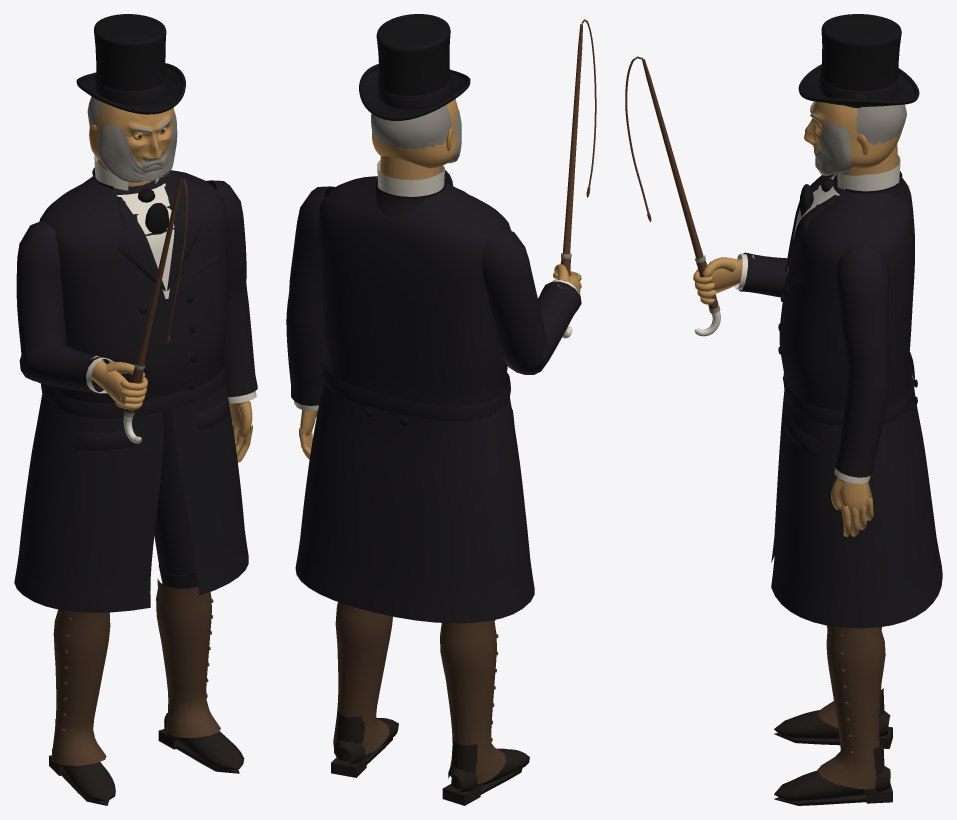
The model's file is grimesby.glb.
3 views of the same model, side by side, from view 1: azimuth 30°, elevation 25°; view 2: azimuth 150°, elevation 25°; view 3: azimuth 270°, elevation 25° (orthographic).
Visible parts, largest first — view 1: coat_skirt, coat_torso, gaiter_right, gaiter_left, sleeve_upper_right, hat_crown, sleeve_left, thigh_left, coat_lapels, coat_waist_seam, beard, sleeve_forearm_right (+14 smaller); view 2: coat_skirt, coat_torso, gaiter_right, sleeve_left, sleeve_upper_right, gaiter_left, hat_crown, coat_waist_seam, boot_right, sleeve_forearm_right, hair, boot_left (+9 smaller); view 3: coat_skirt, coat_torso, sleeve_left, gaiter_left, hat_crown, boot_left, head_skin, boot_right, hand_left_skin, hair, beard, sleeve_forearm_right (+9 smaller).
Boxes of the visible parts, x1=… form: coat_skirt: x1=14, y1=364, x2=248, y2=612; coat_torso: x1=39, y1=170, x2=227, y2=414; gaiter_right: x1=51, y1=609, x2=110, y2=765; gaiter_left: x1=156, y1=579, x2=220, y2=737; sleeve_upper_right: x1=16, y1=220, x2=66, y2=362; hat_crown: x1=94, y1=14, x2=166, y2=104; sleeve_left: x1=206, y1=180, x2=257, y2=397; thigh_left: x1=154, y1=412, x2=196, y2=575; coat_lapels: x1=115, y1=185, x2=200, y2=291; coat_waist_seam: x1=41, y1=357, x2=225, y2=418; beard: x1=97, y1=111, x2=177, y2=182; sleeve_forearm_right: x1=19, y1=344, x2=114, y2=394; coat_skirt: x1=295, y1=364, x2=534, y2=623; coat_torso: x1=318, y1=176, x2=511, y2=405; gaiter_right: x1=440, y1=620, x2=505, y2=783; sleeve_left: x1=286, y1=186, x2=335, y2=405; sleeve_upper_right: x1=482, y1=227, x2=549, y2=366; gaiter_left: x1=333, y1=602, x2=392, y2=754; hat_crown: x1=376, y1=14, x2=450, y2=109; coat_waist_seam: x1=322, y1=358, x2=510, y2=421; boot_right: x1=442, y1=741, x2=529, y2=805; sleeve_forearm_right: x1=502, y1=281, x2=581, y2=374; hair: x1=371, y1=104, x2=451, y2=149; boot_left: x1=331, y1=711, x2=398, y2=777; coat_skirt: x1=771, y1=360, x2=942, y2=628; coat_torso: x1=779, y1=174, x2=914, y2=410; sleeve_left: x1=835, y1=246, x2=889, y2=477; gaiter_left: x1=817, y1=625, x2=885, y2=789; hat_crown: x1=821, y1=14, x2=901, y2=108; boot_left: x1=774, y1=742, x2=892, y2=805; head_skin: x1=804, y1=101, x2=901, y2=168; boot_right: x1=774, y1=688, x2=892, y2=748; hand_left_skin: x1=831, y1=477, x2=873, y2=536; hair: x1=856, y1=104, x2=906, y2=145; beard: x1=813, y1=122, x2=851, y2=175; sleeve_forearm_right: x1=739, y1=252, x2=787, y2=297.
Bounding box in the file's own units: 0.6949 × 2.03 × 0.7849.
